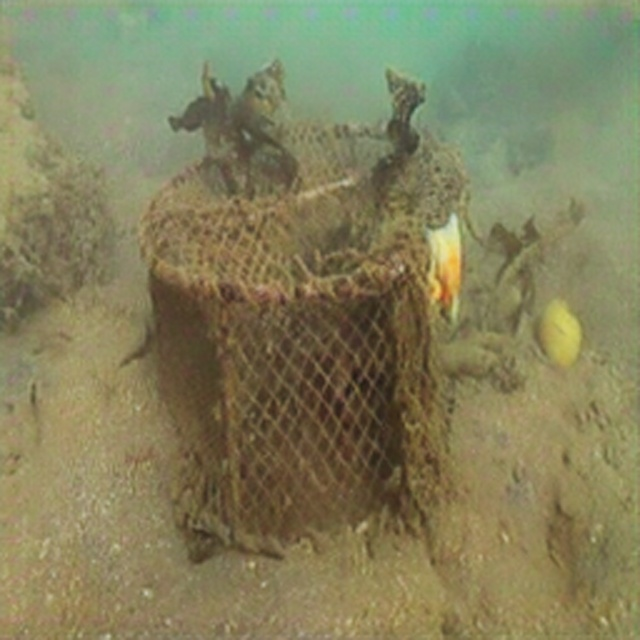mine: (134, 115, 468, 555)
